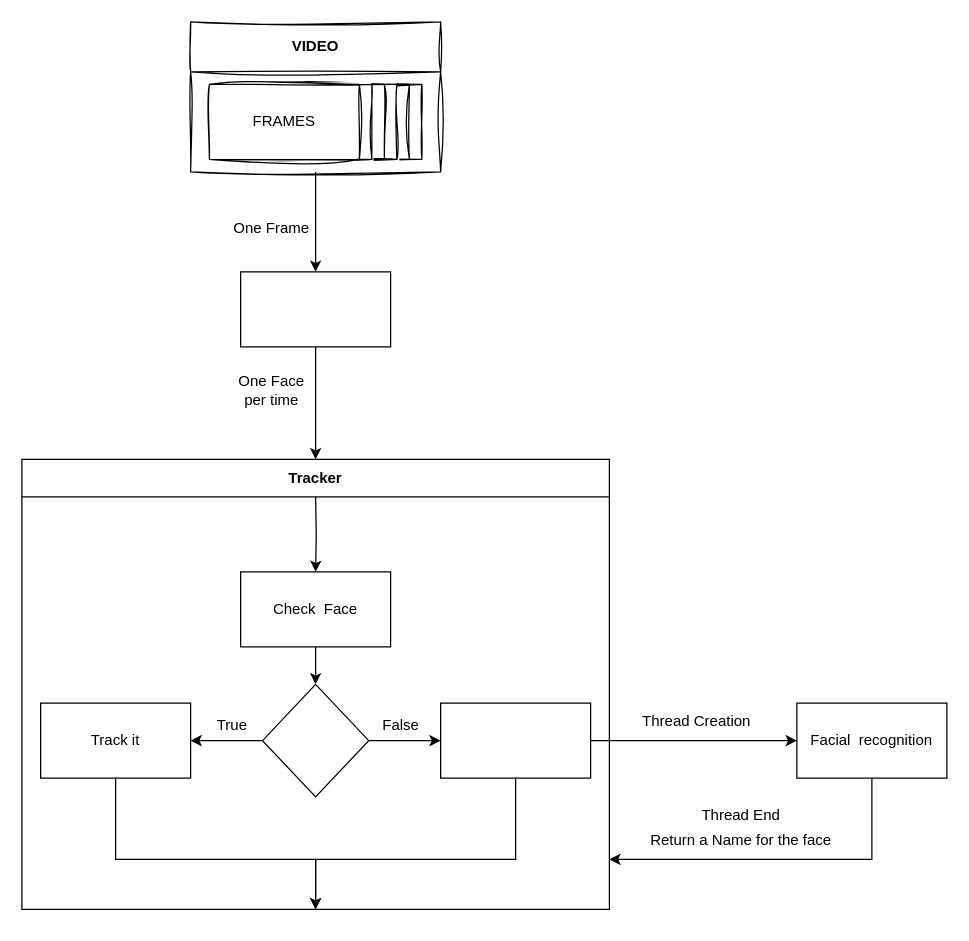
This 969x941 diagram has some shape labels left out. Each missing label, with the centre of its shape:
"Add a new Tracking Target" belongs at [515,740].
"Exist in DataBase?" belongs at [315,740].
"Face Detection" belongs at [315,309].
